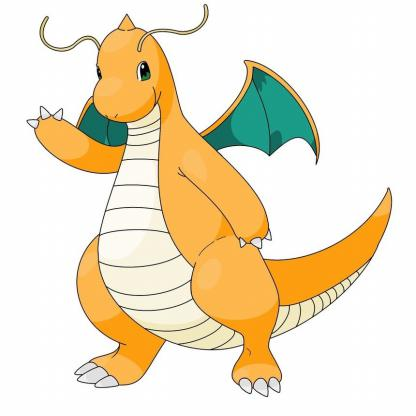Dragonite: (23, 4, 401, 405)
